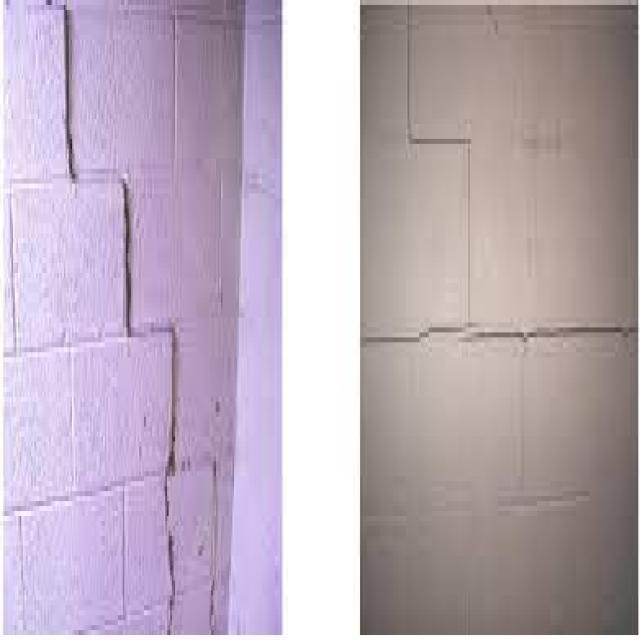Crack: (357, 0, 638, 352), (56, 0, 175, 625)
